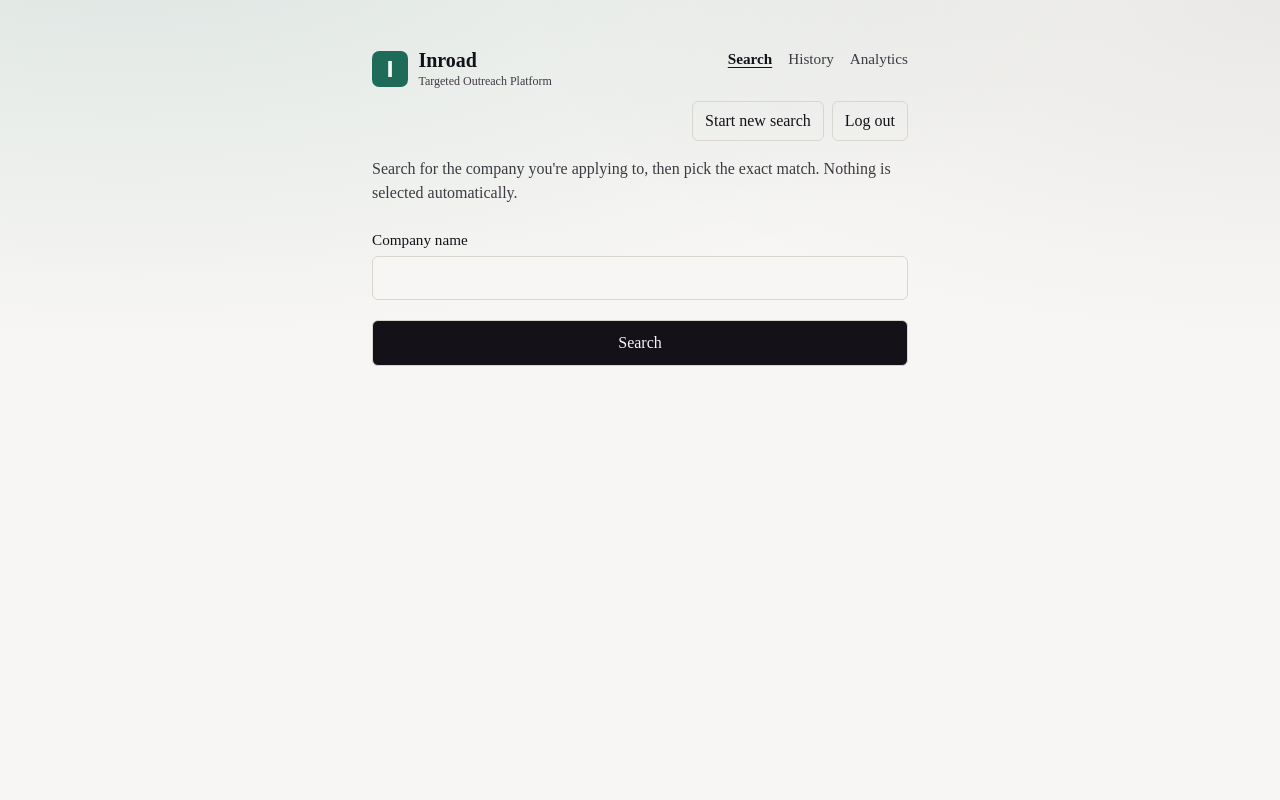
Test case: HomePage discovery flow › selecting a candidate locks the company and advances to FRAME 2
The width and height of the screenshot is (1280, 800).
Type "Acme" into the field labelled "Company name" at coordinates (640, 278), box [372,256,908,300]
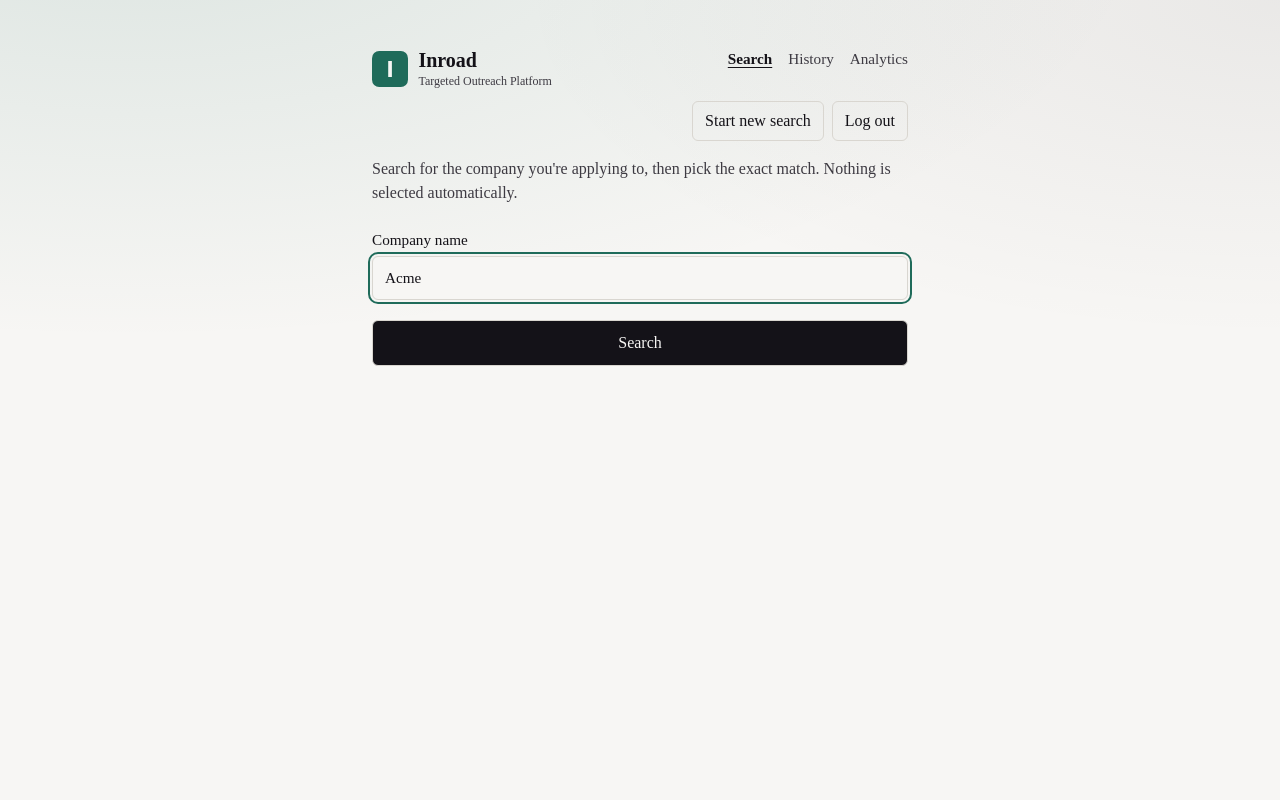
Click the button "Search" at coordinates (640, 343), box [372,320,908,366]
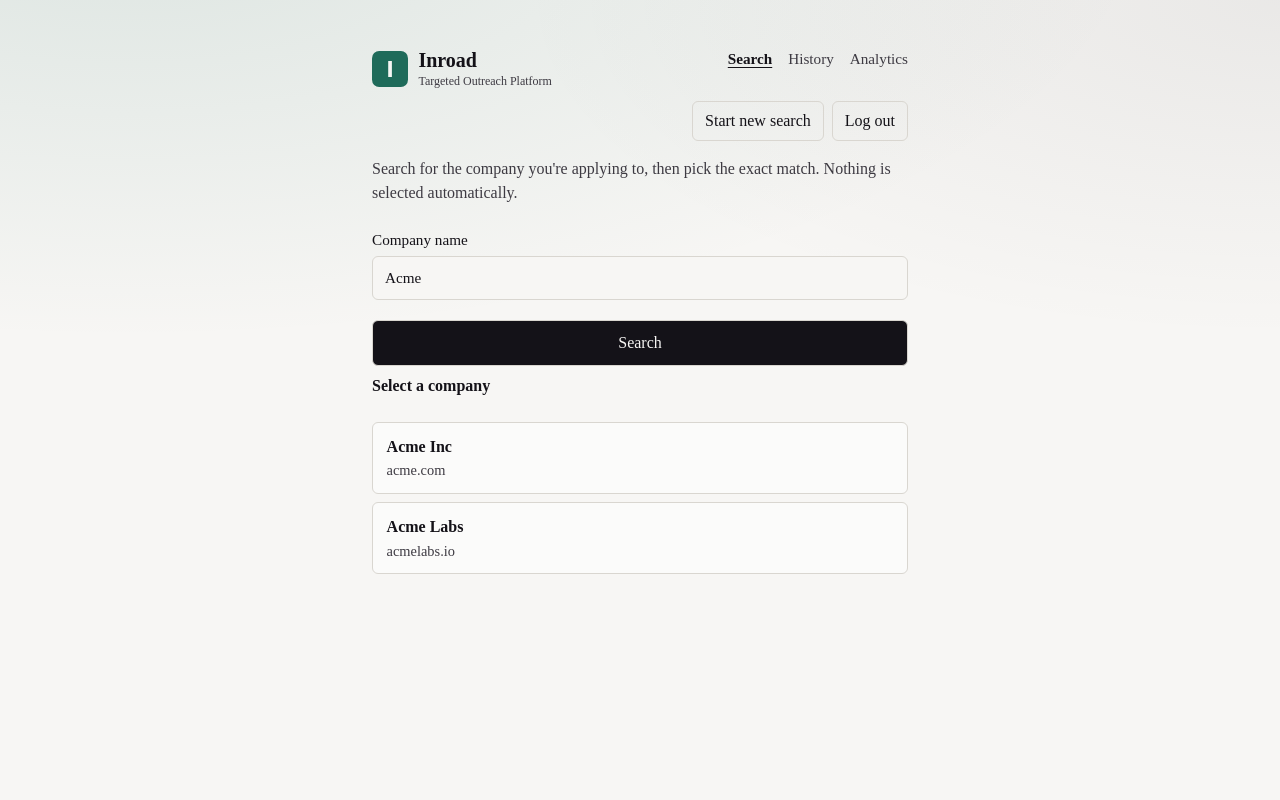
Click the button "Acme Labs acmelabs.io" at coordinates (425, 526), box [372,502,908,574]
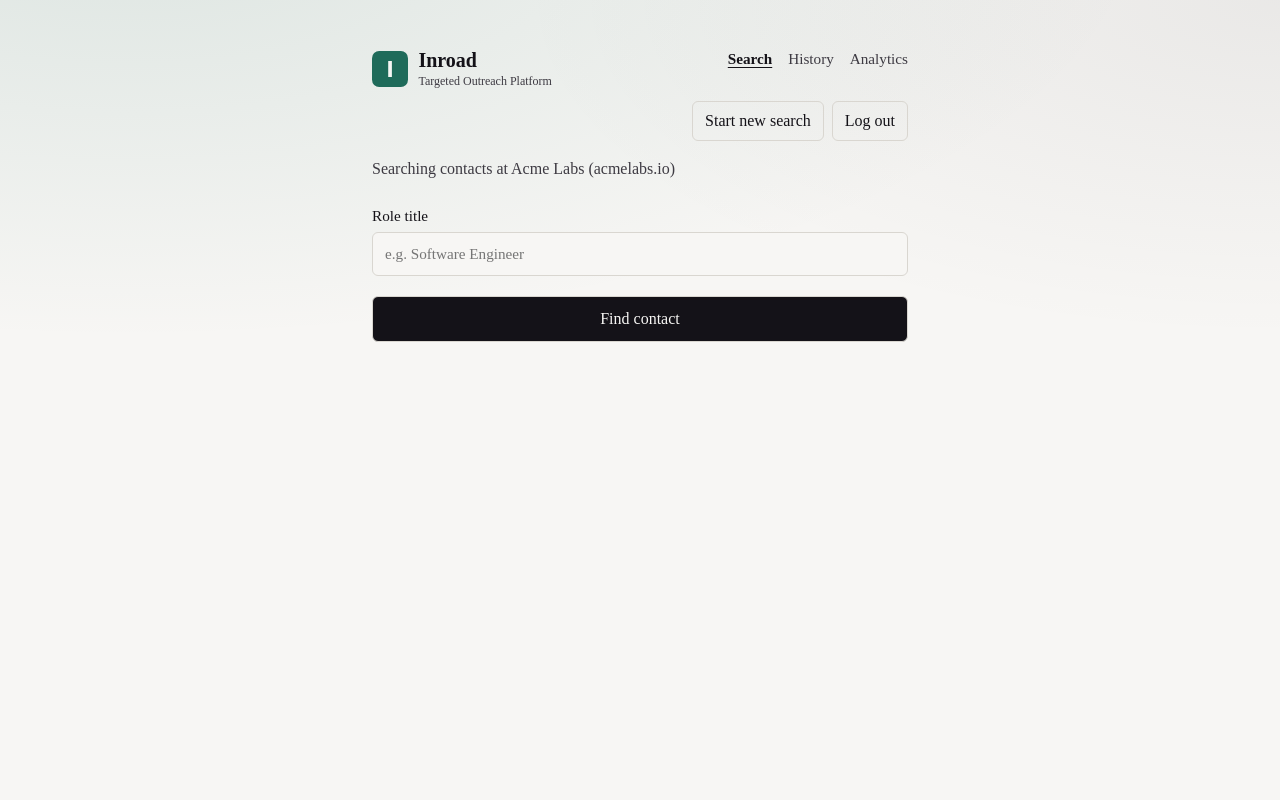
Expected: the text "Searching contacts at Acme Labs (acmelabs.io)" is shown, [372,160,675,177]
Expected: the field labelled "Role title" is shown, [372,232,908,276]
